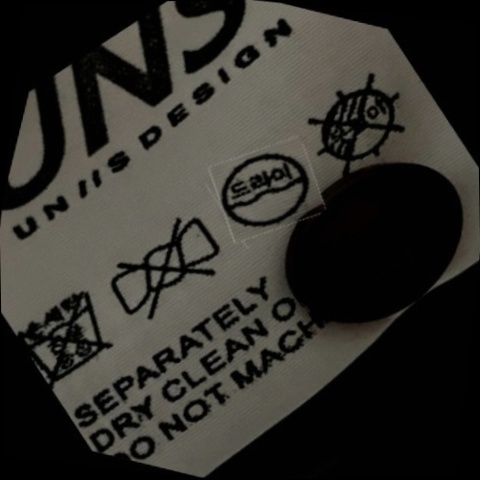DN_dry: (299, 66, 415, 184)
DN_wring: (100, 205, 231, 336)
dry_clean: (214, 137, 319, 245)
hand_wash: (14, 273, 125, 392)
